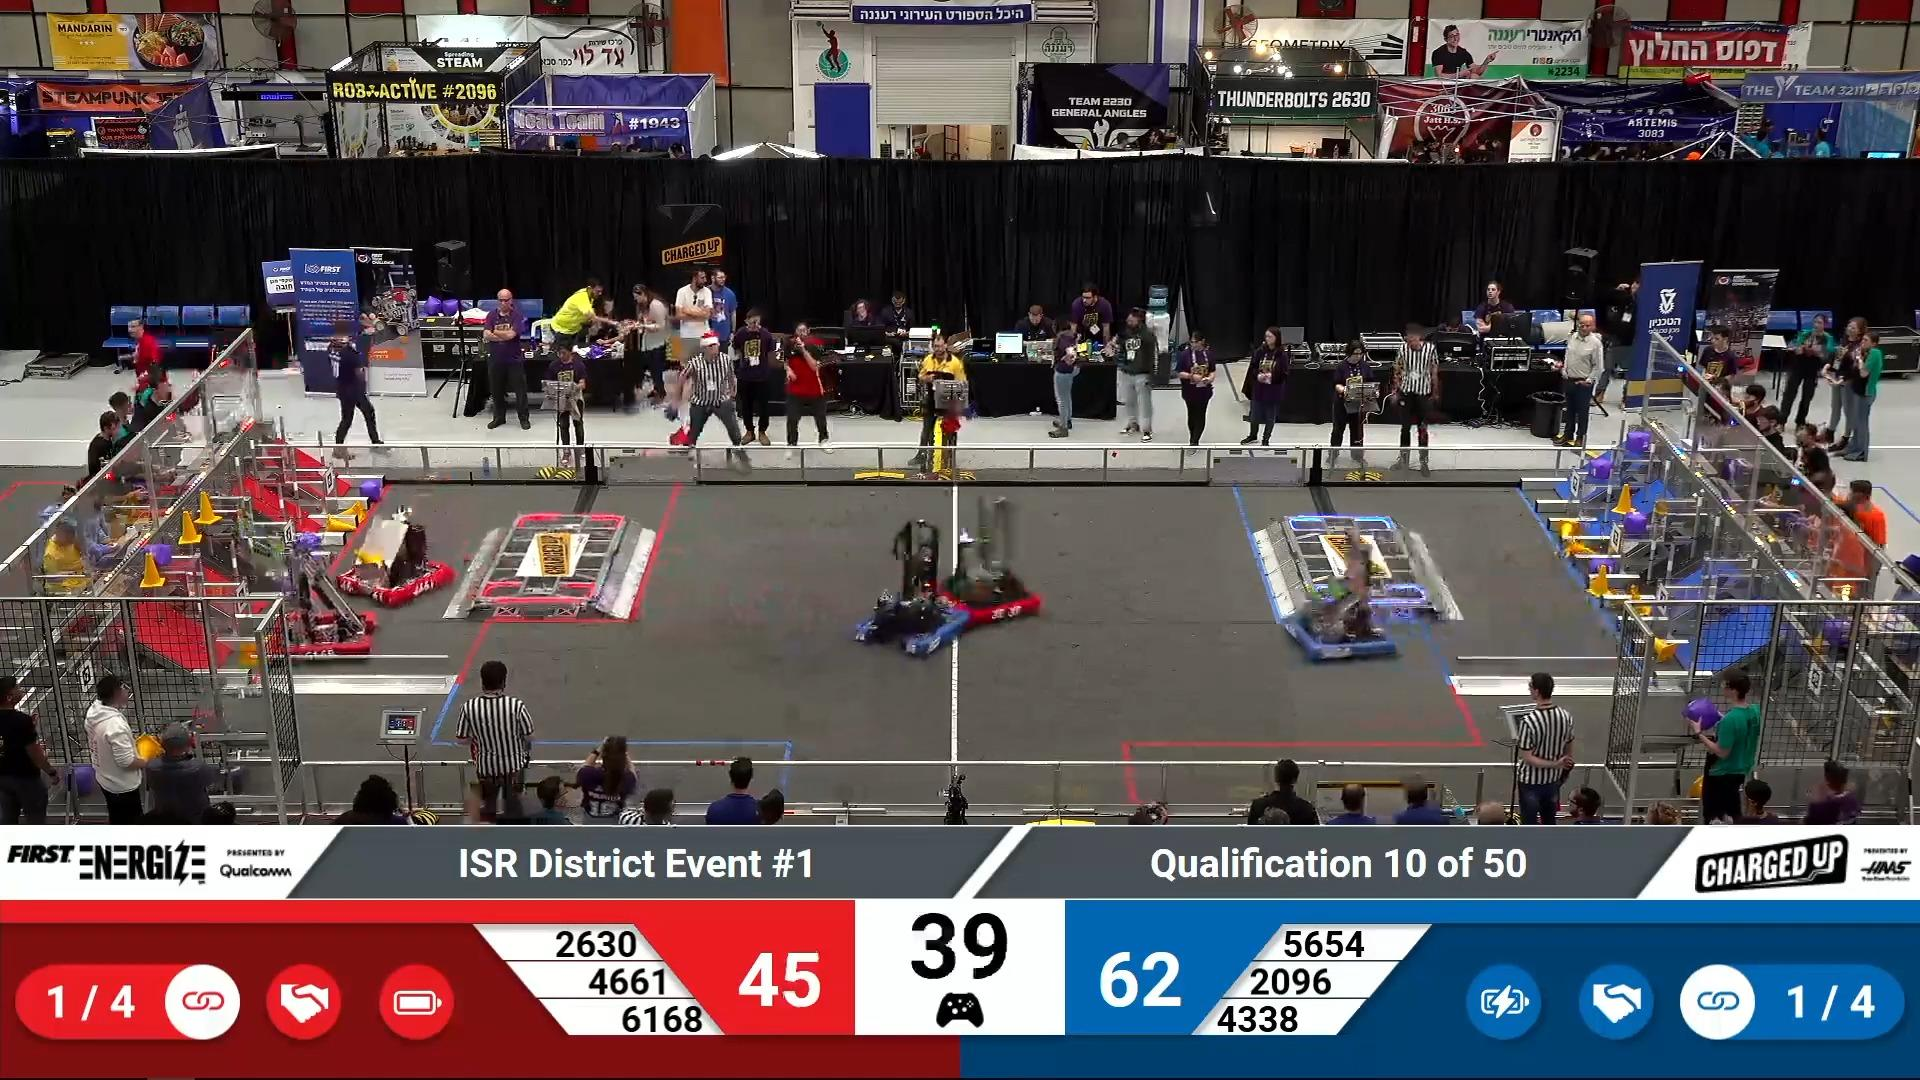robot: (856, 554, 975, 661), (1267, 578, 1399, 671), (949, 516, 1044, 632), (338, 516, 460, 605), (265, 571, 377, 666), (149, 699, 251, 802)
